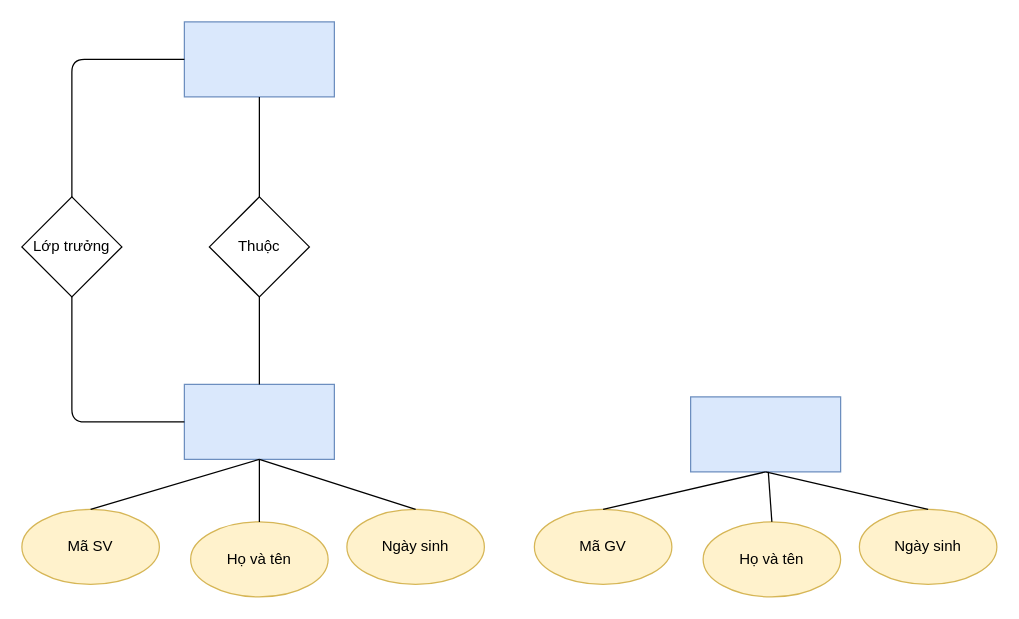
Some shapes in this 1019 by 619 pixel diagram are drawn without their labels. The shapes that lost their labels are listed below. From the top down, each one's box as (x1, y1, x2, y2) in pixels, then its label:
(183, 21, 334, 97): Lớp
(183, 383, 334, 459): Sinh viên
(689, 396, 841, 472): Giảng viên
